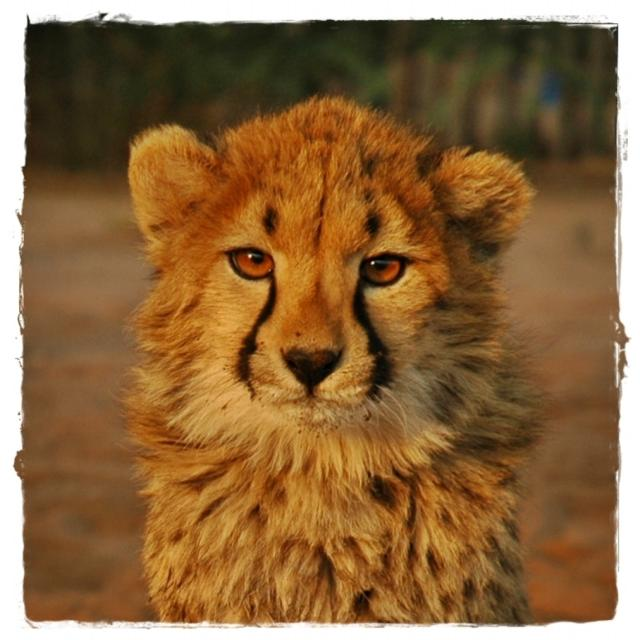Cheetah: (108, 86, 574, 624)
